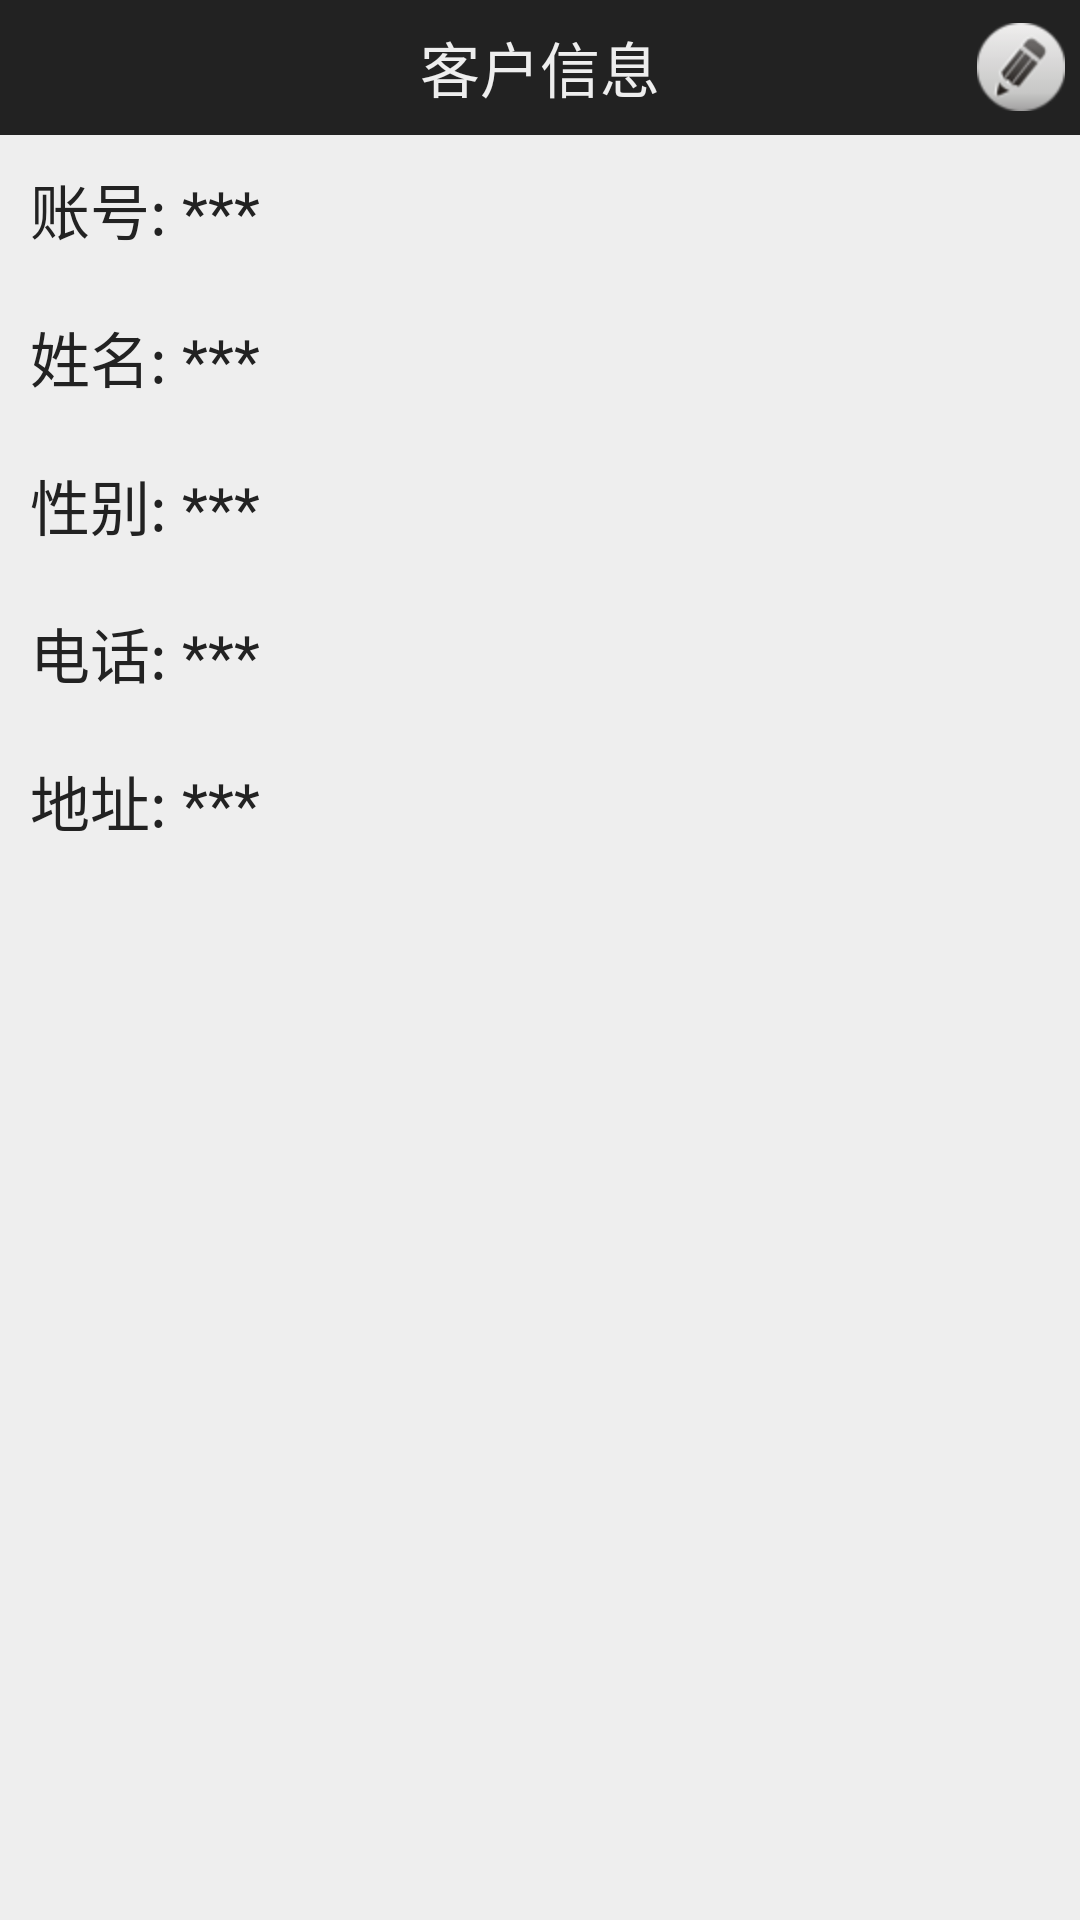

Where icons sit on this 1080w x 1920h app screen, as (x1, y1, x2, y2):
edit: (977, 23, 1065, 111)
